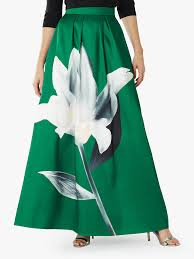C_skirt: (6, 6, 171, 237)
